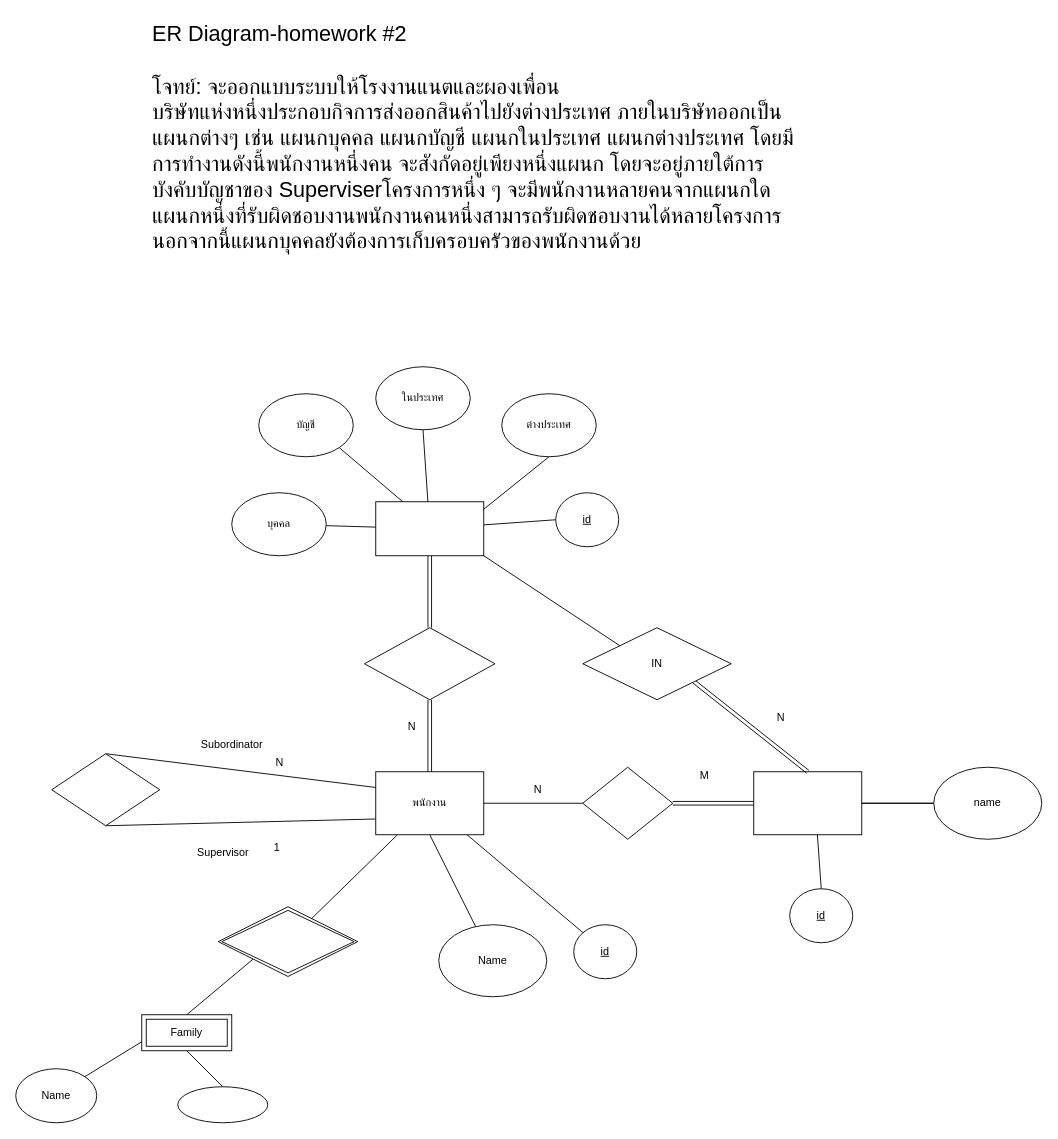
Image size: 1058x1139. Some labels were removed from this diagram. The shapes that lost their labels are listed below. From the top down, each one's centre as x and y in pixels, then its label:
At point 429,528: "แผนก".
At point 429,663: "สังกัด".
At point 105,789: "report_to".
At point 627,802: "รับผิดชอบ".
At point 807,803: "โครงการ".
At point 287,941: "Belong".
At point 222,1104: "Status".
